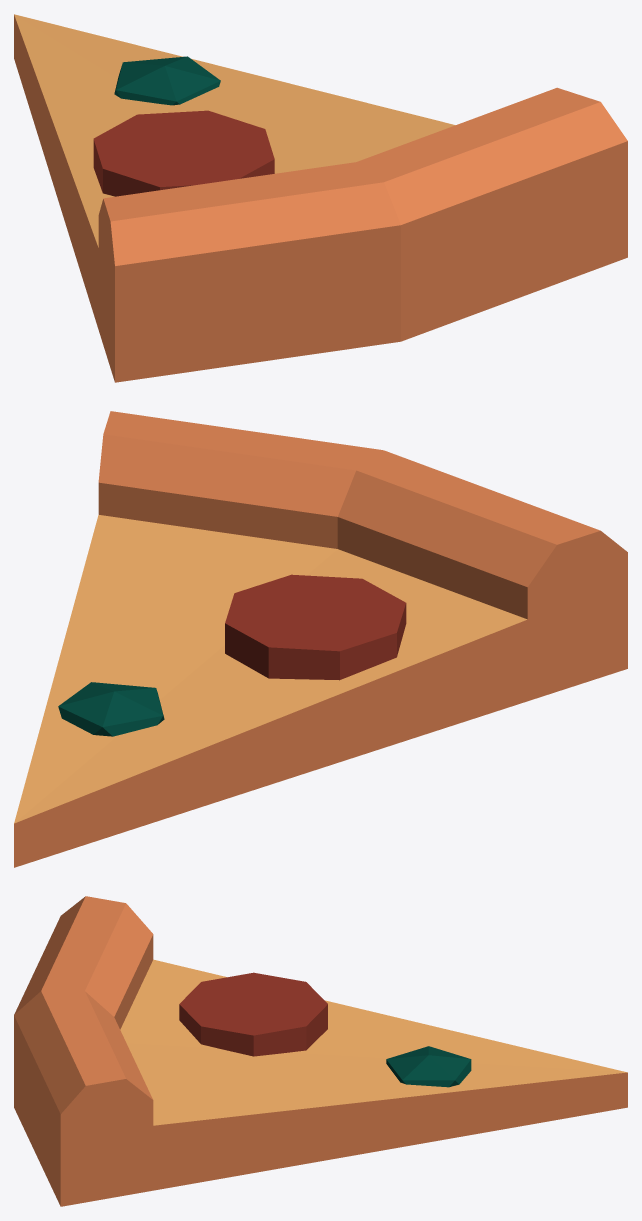
The model's file is PizzaSlice.fbx.
The picture shows the model from 3 angles, top to bottom: view 1: azimuth 30°, elevation 25°; view 2: azimuth 150°, elevation 25°; view 3: azimuth 270°, elevation 25°; orthographic projection. The views are drawn at different scales.
Visible parts, largest first — view 1: PizzaSlice; view 2: PizzaSlice; view 3: PizzaSlice.
Boxes of the visible parts, left/top/right/bottom form: PizzaSlice: left=14, top=14, right=627, bottom=382; PizzaSlice: left=14, top=411, right=627, bottom=867; PizzaSlice: left=14, top=896, right=627, bottom=1206.
Size of the model in its own units: 0.1816 by 0.2373 by 0.0497.
